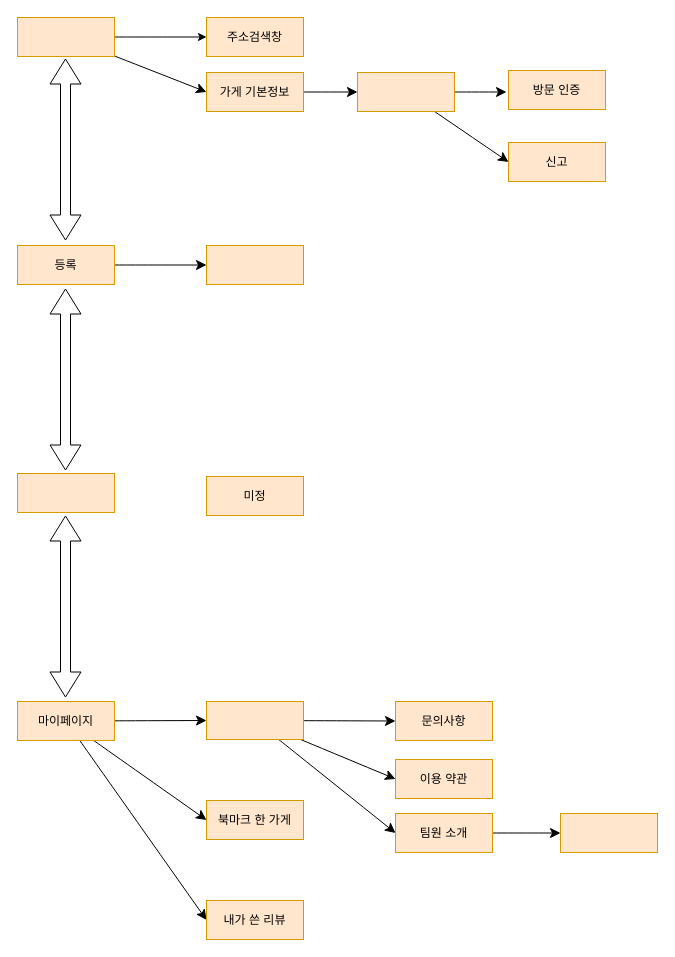
The diagram is 675 pixels wide and 957 high, and some of its shapes have lost their labels. Each missing label, with the centre of its shape:
"가게 자세히" goes at point (405, 92).
"가게등록" goes at point (255, 264).
"광고보기" goes at point (609, 832).
"놀이터" goes at point (65, 492).
"메인" goes at point (65, 36).
"설정" goes at point (255, 720).
